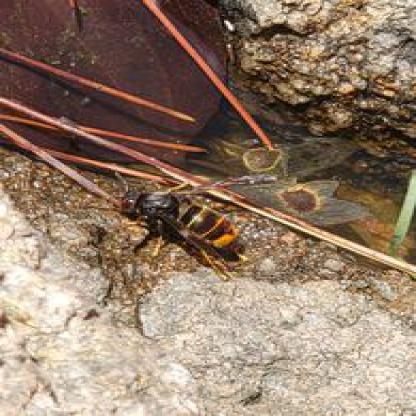Asian Hornet: (103, 178, 266, 274)
